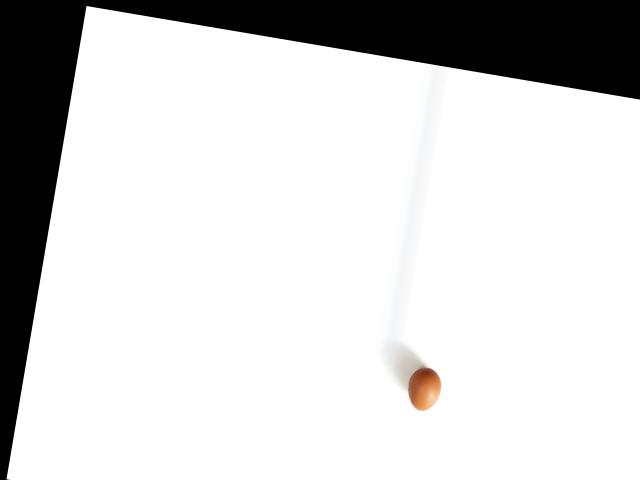egg: (405, 364, 444, 413)
